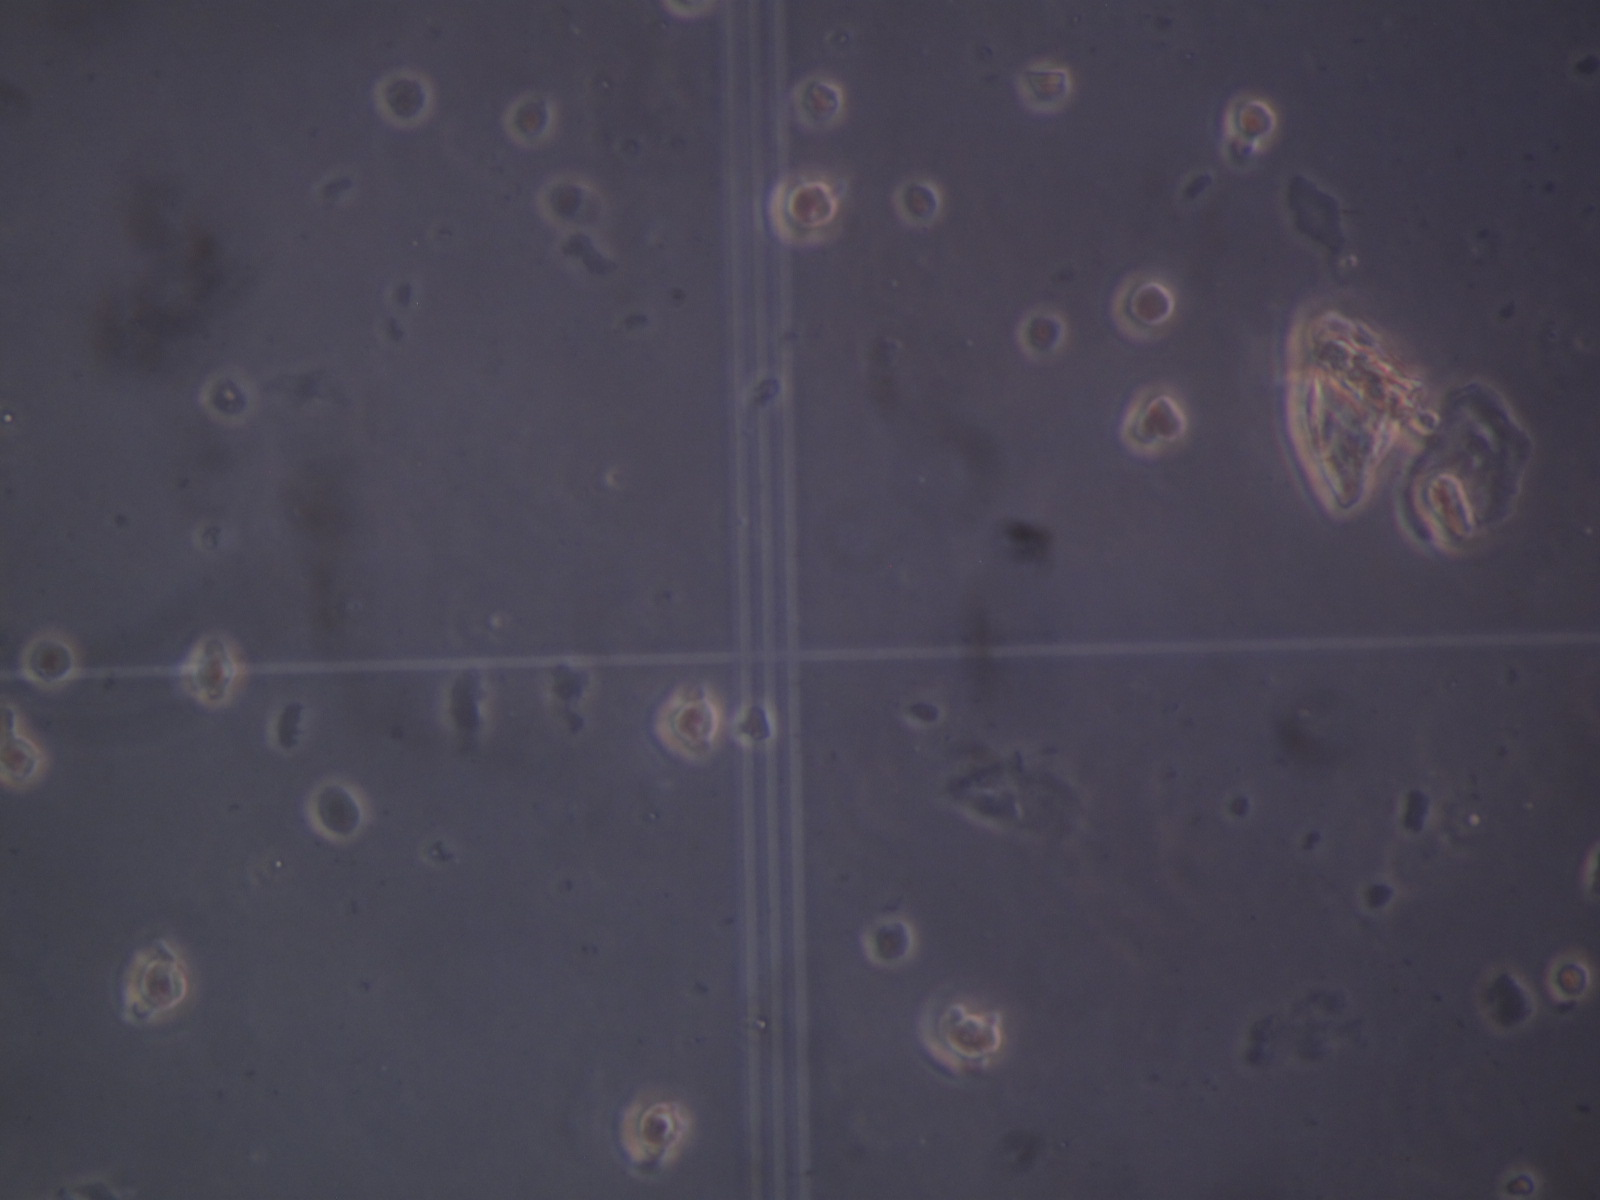hemo: (1123, 384, 1186, 458), (769, 176, 838, 241), (1111, 274, 1173, 344), (304, 776, 367, 843), (650, 695, 717, 756), (186, 634, 238, 708), (373, 67, 435, 129), (929, 1016, 1003, 1066), (621, 1100, 682, 1161), (123, 953, 186, 1008), (18, 632, 76, 687), (199, 367, 254, 424), (501, 89, 554, 149), (1014, 308, 1067, 363), (859, 915, 915, 966), (1226, 95, 1277, 146), (1018, 62, 1071, 111), (792, 79, 845, 129), (893, 176, 942, 228), (1, 732, 47, 787), (1546, 953, 1592, 1005), (1497, 1166, 1542, 1200)
